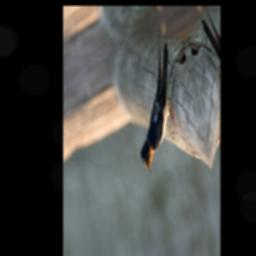Swallow: (118, 23, 190, 181)
